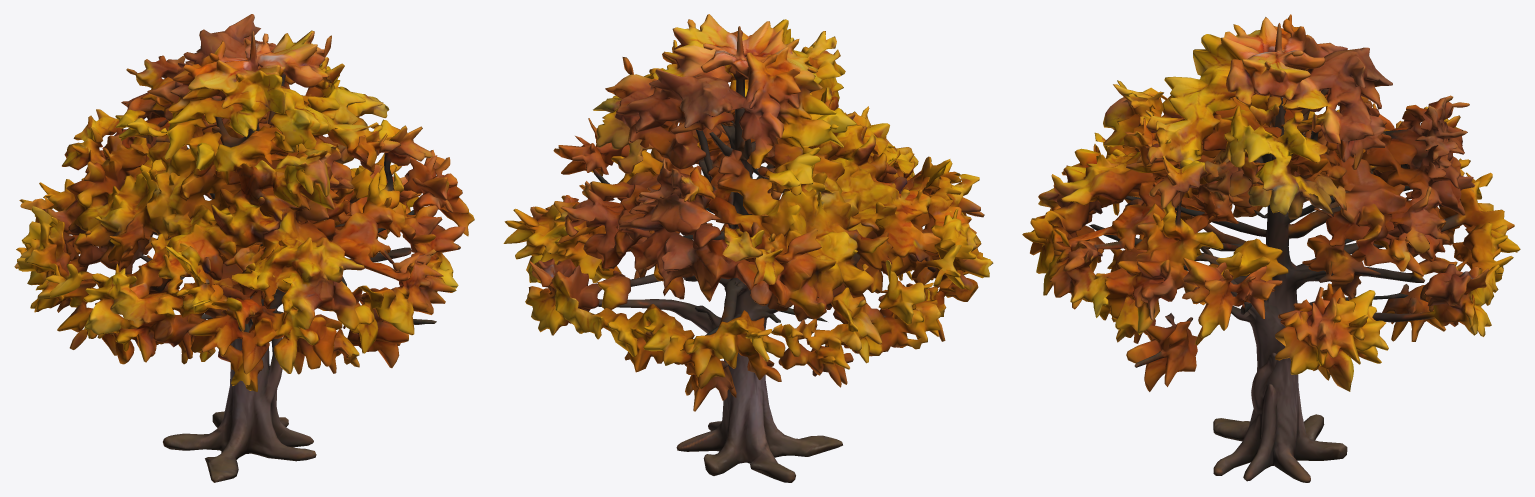
File: nature-tree-autumn.glb
The picture shows the model from 3 angles, left to right: view 1: azimuth 30°, elevation 25°; view 2: azimuth 150°, elevation 25°; view 3: azimuth 270°, elevation 25°; orthographic projection. The views are drawn at different scales.
Visible parts, largest first — view 1: tripo_node_68201e8b-0f97-4f66-900e-25c91c636363; view 2: tripo_node_68201e8b-0f97-4f66-900e-25c91c636363; view 3: tripo_node_68201e8b-0f97-4f66-900e-25c91c636363.
Part boxes in pixels (bbox=[...]): tripo_node_68201e8b-0f97-4f66-900e-25c91c636363: bbox=[14, 14, 474, 482]; tripo_node_68201e8b-0f97-4f66-900e-25c91c636363: bbox=[503, 14, 993, 482]; tripo_node_68201e8b-0f97-4f66-900e-25c91c636363: bbox=[1022, 14, 1520, 482].
Bounding box in the file's own units: 7.19 × 7 × 7.24.
1 material, 1 textured.
